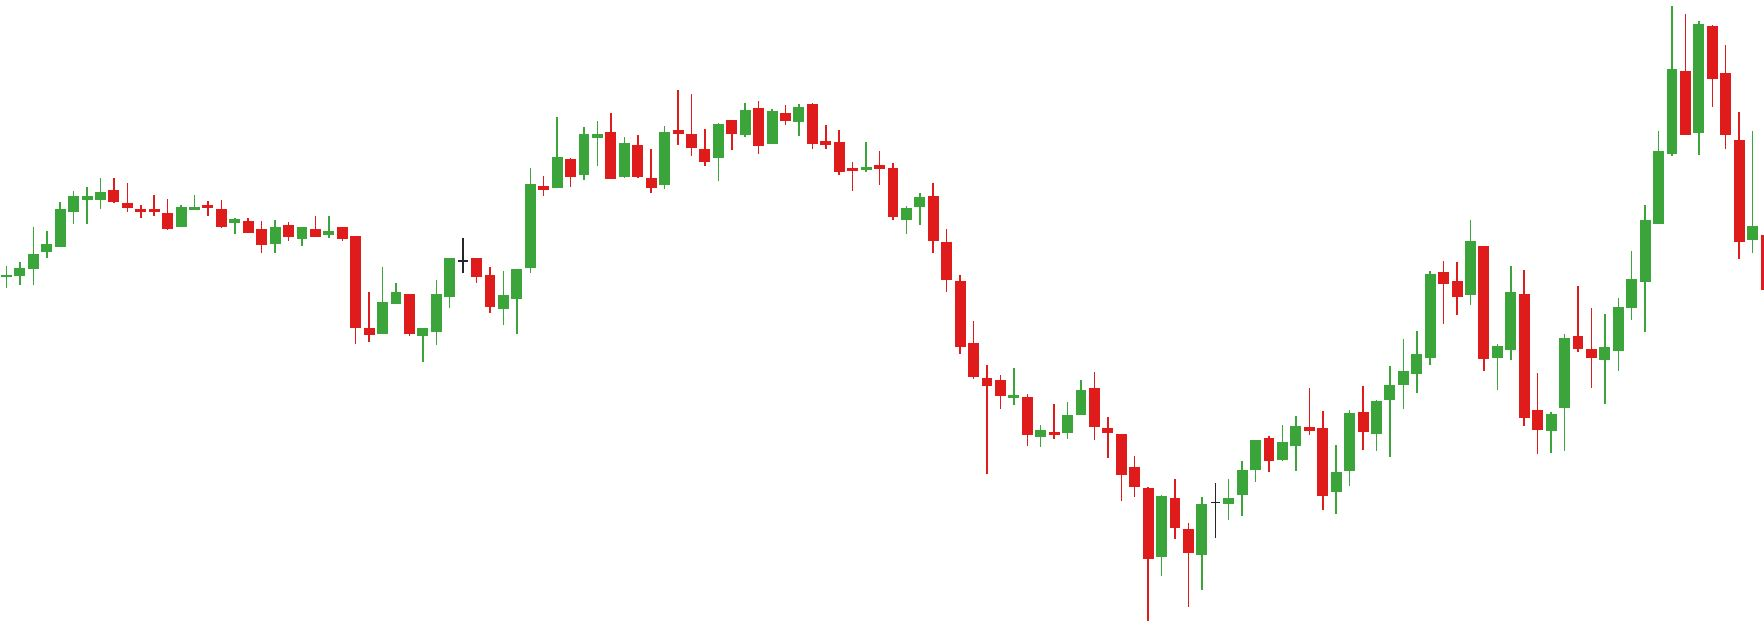buy: (1246, 426, 1344, 515)
sell: (606, 87, 686, 165)
